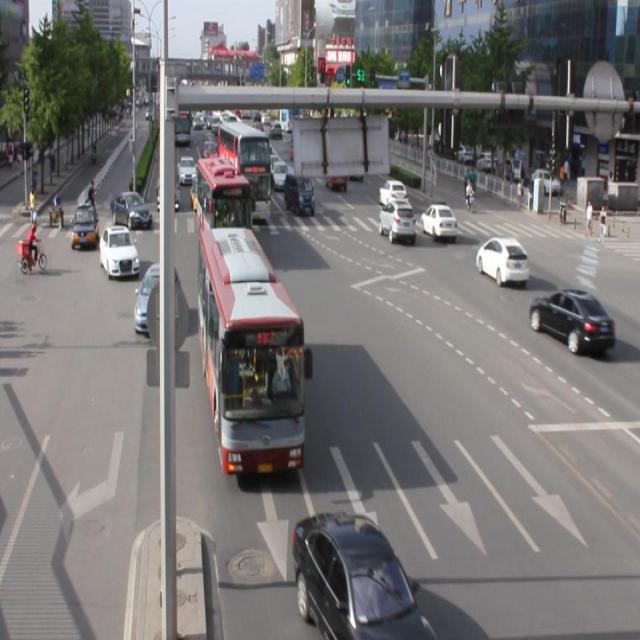car: (292, 511, 434, 640), (527, 286, 614, 353), (134, 260, 182, 333), (474, 236, 528, 284), (99, 225, 141, 279), (378, 199, 415, 241), (420, 202, 456, 238)
van: (200, 228, 304, 472)
